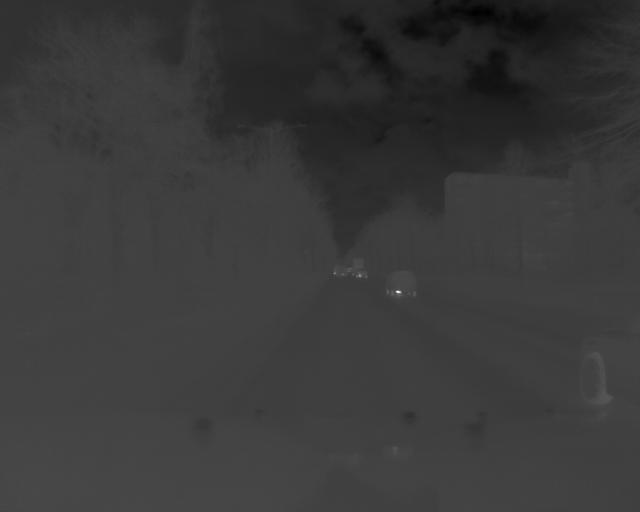car: (571, 293, 640, 406), (381, 268, 418, 298)
